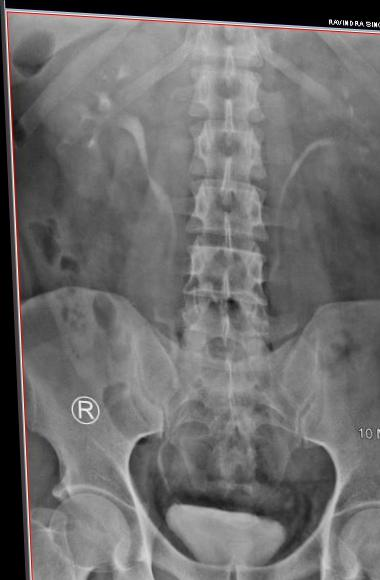bladder: (145, 497, 298, 577)
left kidney: (293, 43, 379, 229)
right kidney: (46, 44, 160, 221)
vertebrae: (183, 51, 264, 120)
